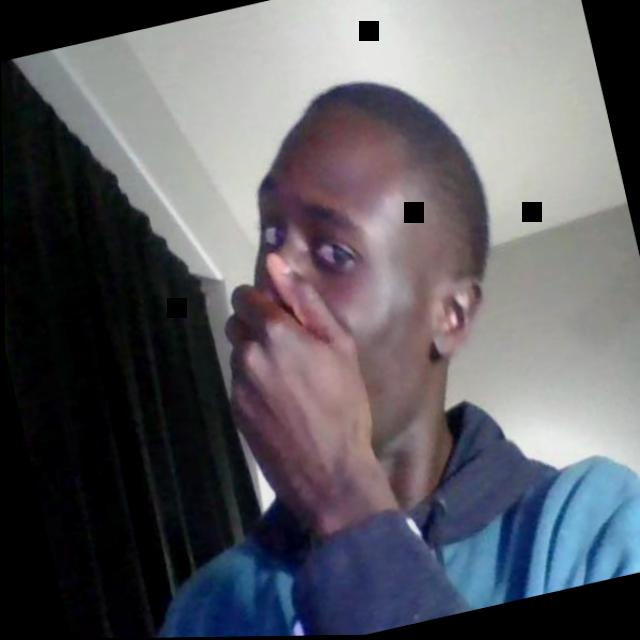NO-Mask: (222, 109, 455, 463)
